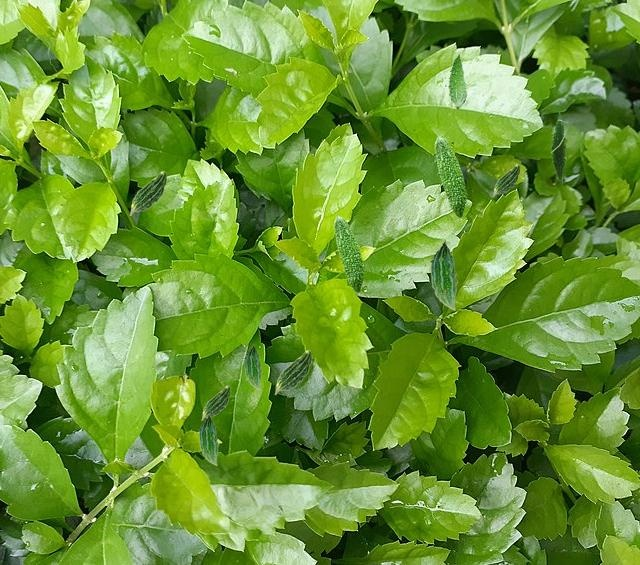ampalaya: (434, 136, 468, 221), (333, 215, 365, 296), (429, 239, 458, 310), (129, 170, 167, 216), (274, 349, 312, 395), (549, 111, 568, 185), (447, 53, 468, 109), (198, 413, 219, 466), (201, 385, 230, 421), (492, 163, 520, 197), (243, 344, 262, 390)
